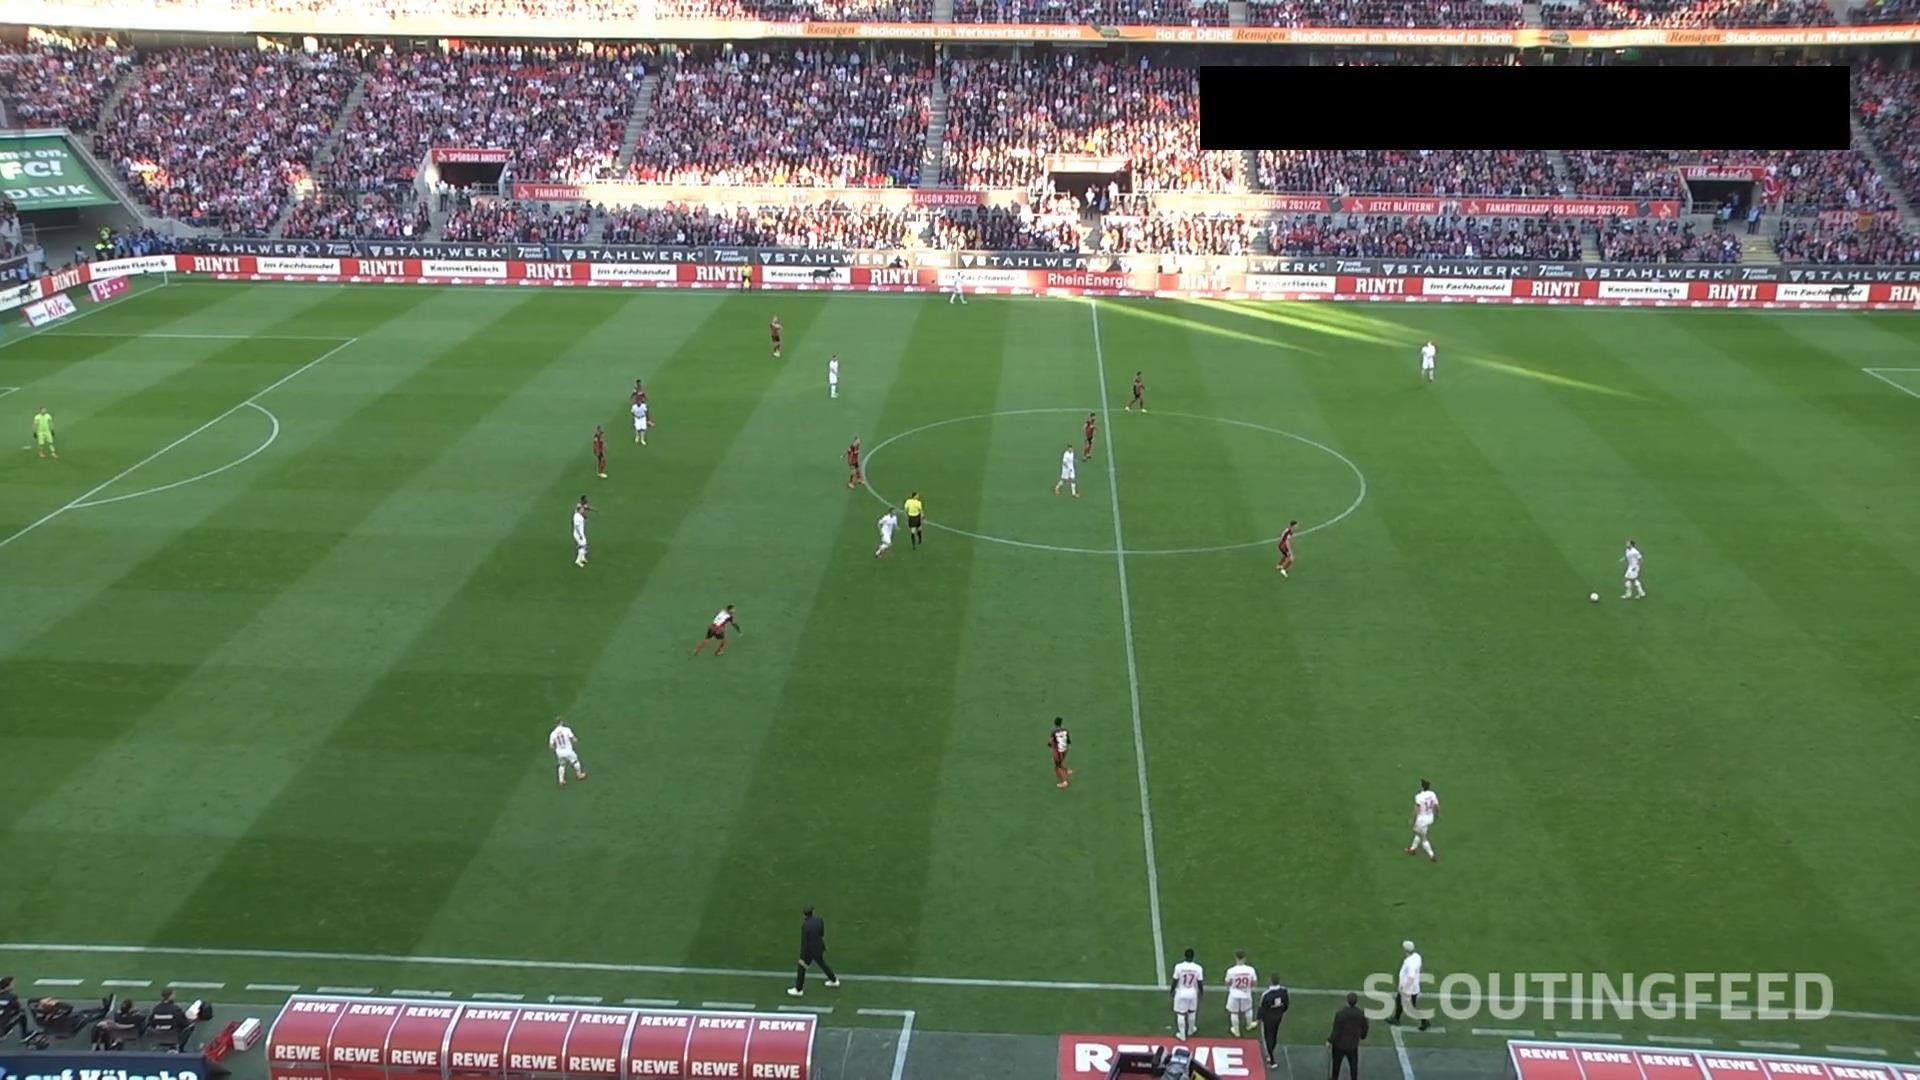ball: (1590, 592, 1601, 601)
